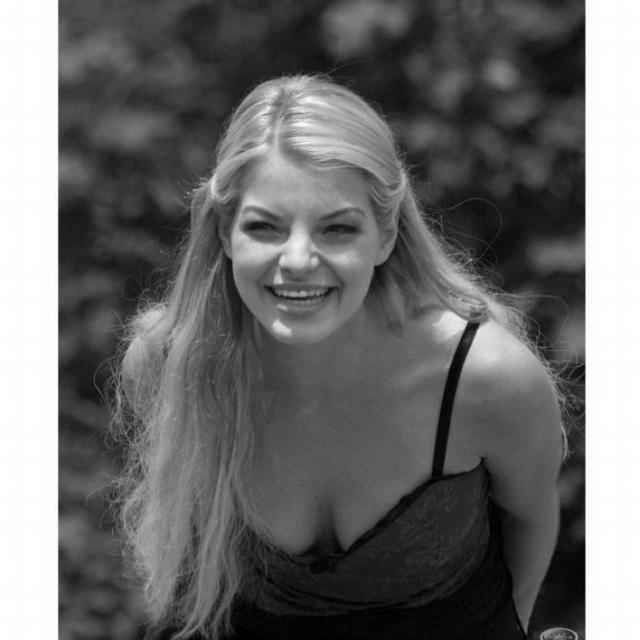real: (218, 108, 394, 354)
